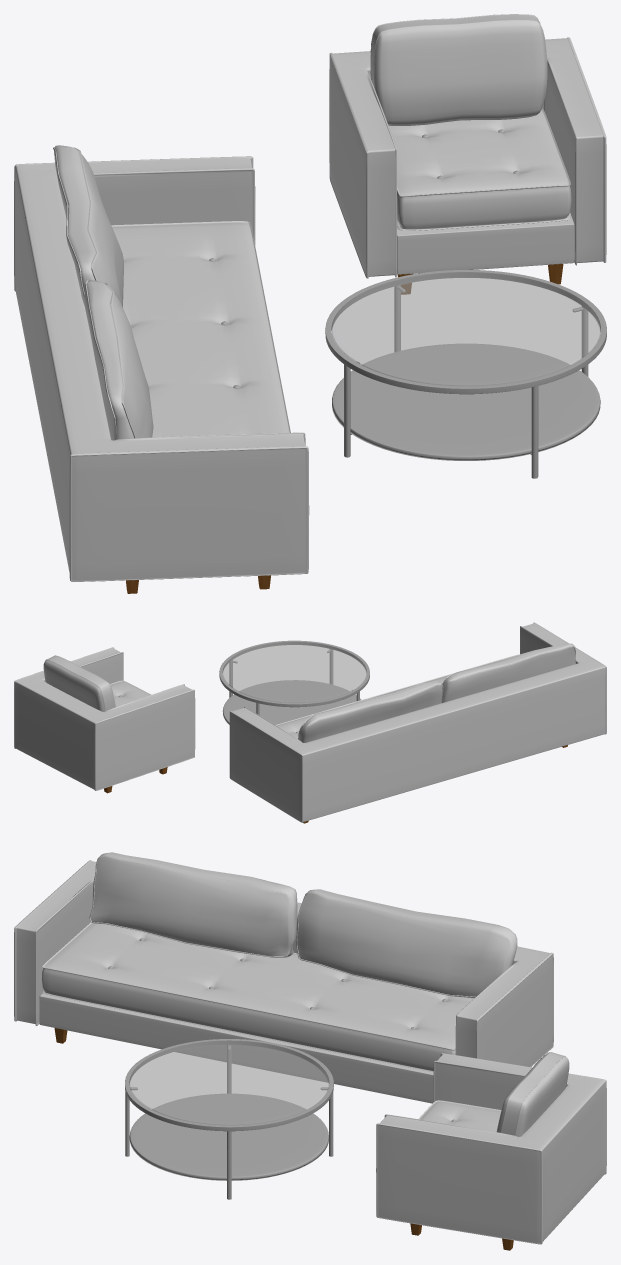
The model's file is Sofa.fbx.
3 views of the same model, one above another, from view 1: azimuth 30°, elevation 25°; view 2: azimuth 150°, elevation 25°; view 3: azimuth 270°, elevation 25° (orthographic). The views are drawn at different scales.
Visible parts, largest first — view 1: pCube2 (×2), pCube3 (×2), coffeetable, pCube28, pCube1, pCube20, pCube22; view 2: pCube2 (×2), coffeetable, pCube22, pCube20, pCube28, pCube3 (×2); view 3: pCube2 (×2), pCube3 (×2), coffeetable, pCube22, pCube20, pCube1, pCube28.
Boxes of the visible parts, left/top/right/bottom form: pCube2 (×2): left=14, top=37, right=606, bottom=581; pCube3 (×2): left=111, top=108, right=571, bottom=437; coffeetable: left=325, top=270, right=606, bottom=478; pCube28: left=370, top=14, right=547, bottom=125; pCube1: left=397, top=212, right=574, bottom=274; pCube20: left=84, top=280, right=153, bottom=440; pCube22: left=53, top=145, right=123, bottom=307; pCube2 (×2): left=14, top=622, right=606, bottom=822; coffeetable: left=219, top=640, right=369, bottom=724; pCube22: left=298, top=681, right=443, bottom=742; pCube20: left=442, top=643, right=575, bottom=702; pCube28: left=43, top=655, right=115, bottom=711; pCube3 (×2): left=110, top=654, right=518, bottom=738; pCube2 (×2): left=14, top=860, right=606, bottom=1244; pCube3 (×2): left=41, top=922, right=501, bottom=1131; coffeetable: left=125, top=1039, right=333, bottom=1199; pCube22: left=296, top=889, right=517, bottom=998; pCube20: left=89, top=852, right=297, bottom=957; pCube1: left=39, top=993, right=433, bottom=1103; pCube28: left=496, top=1052, right=569, bottom=1136.
Bounding box in the file's own units: 6.3 × 1.56 × 5.43.
